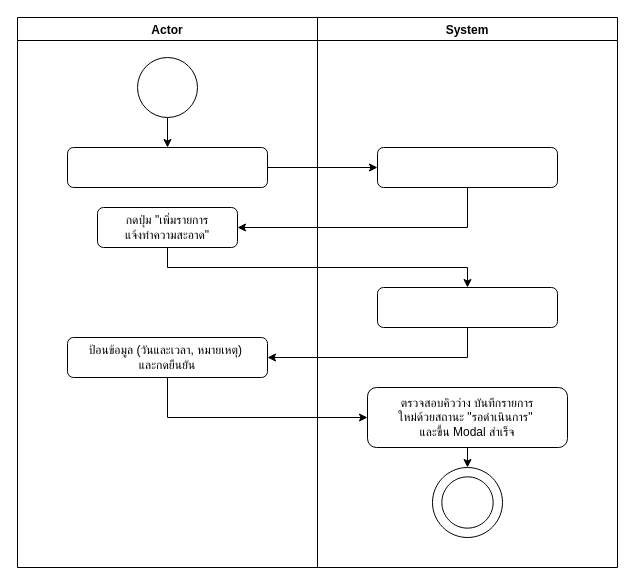
The diagram is 635 pixels wide and 585 high, and some of its shapes have lost their labels. Each missing label, with the centre of its shape:
เลือกเมนู "แจ้งทำความสะอาด": point (167, 167)
แสดงฟอร์มสำหรับกรอกข้อมูล การจองคิวทำความสะอาด: point (467, 307)
แสดงรายการแจ้งทำความสะอาดปัจจุบันและประวัติย้อนหลัง: point (467, 167)
